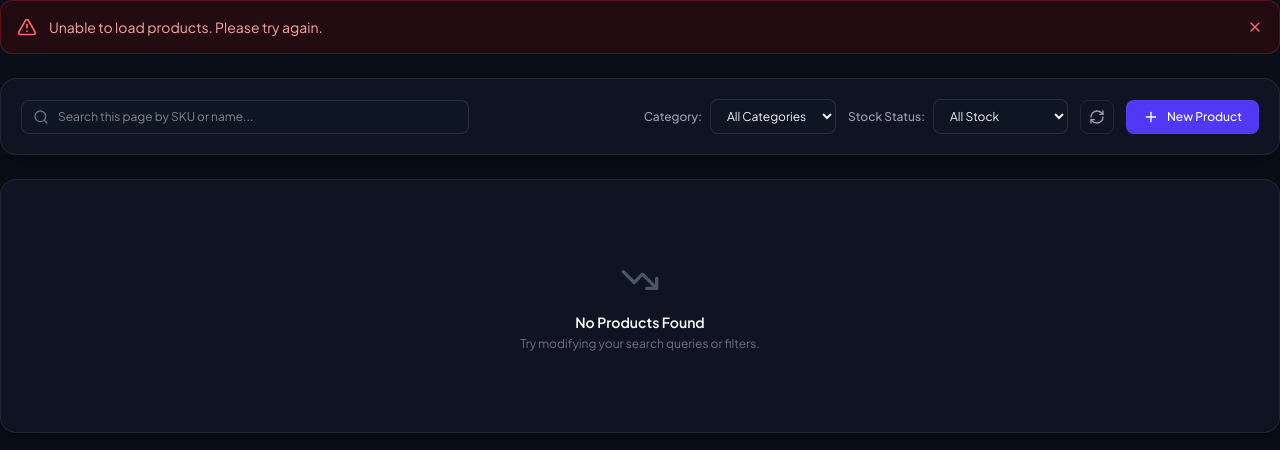
Scenario: catalog › recovers from a failed load when the user refreshes
Expected: the text "Unable to load products. Please try again." is shown, [49, 17, 322, 37]
Click the button named "Refresh Catalog Data" at (1097, 116), box [1080, 100, 1114, 134]
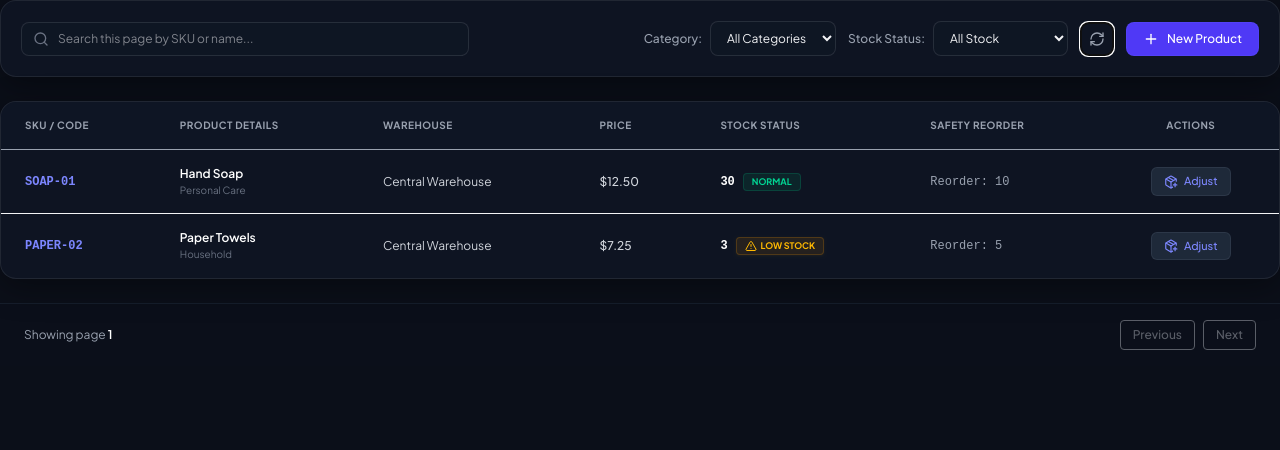
Now the text "Hand Soap" is shown, box [180, 166, 243, 181]
Now the text "Unable to load products. Please try again." is gone
